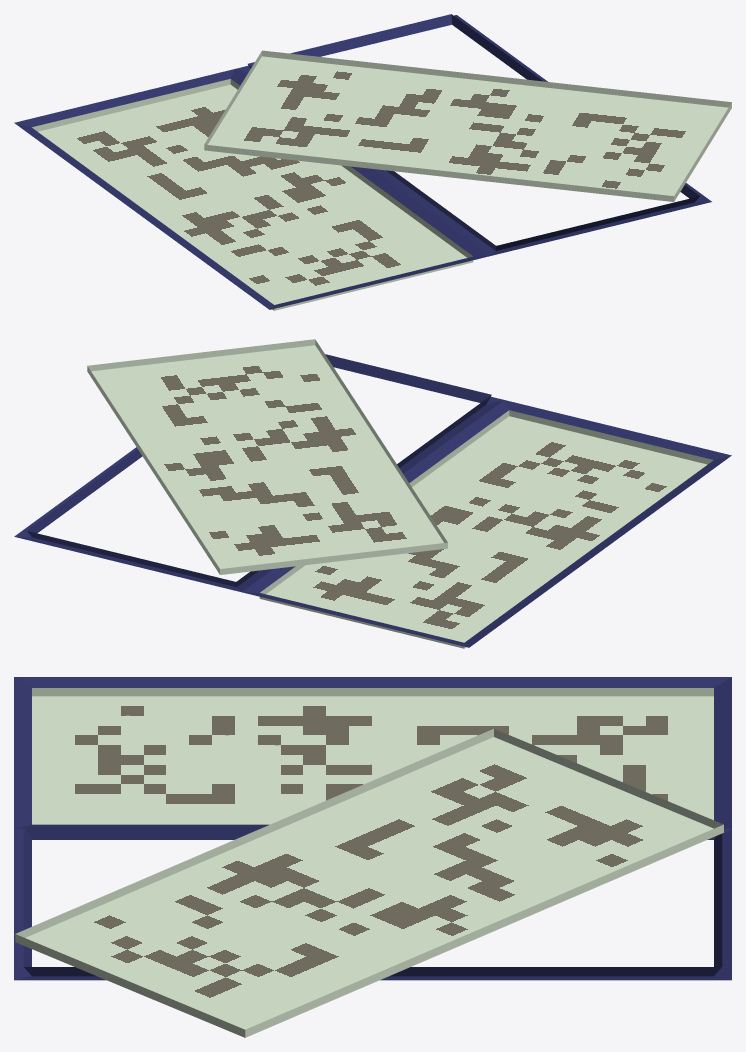
The model's file is drop_ceiling_popped.glb.
3 renders of one model, top to bottom at view 1: azimuth 30°, elevation 25°; view 2: azimuth 150°, elevation 25°; view 3: azimuth 270°, elevation 25°, orthographic. The views are drawn at different scales.
Parts seen in each view (by area): view 1: DropCeiling_Popped; view 2: DropCeiling_Popped; view 3: DropCeiling_Popped.
Boxes of the visible parts, x1,y1,x2,y2 form: DropCeiling_Popped: [14, 14, 731, 310]; DropCeiling_Popped: [14, 339, 731, 648]; DropCeiling_Popped: [14, 677, 731, 1037].
Size of the model in its own units: 2.46 by 0.0993 by 2.
Materials: 1 (1 with a texture image).
